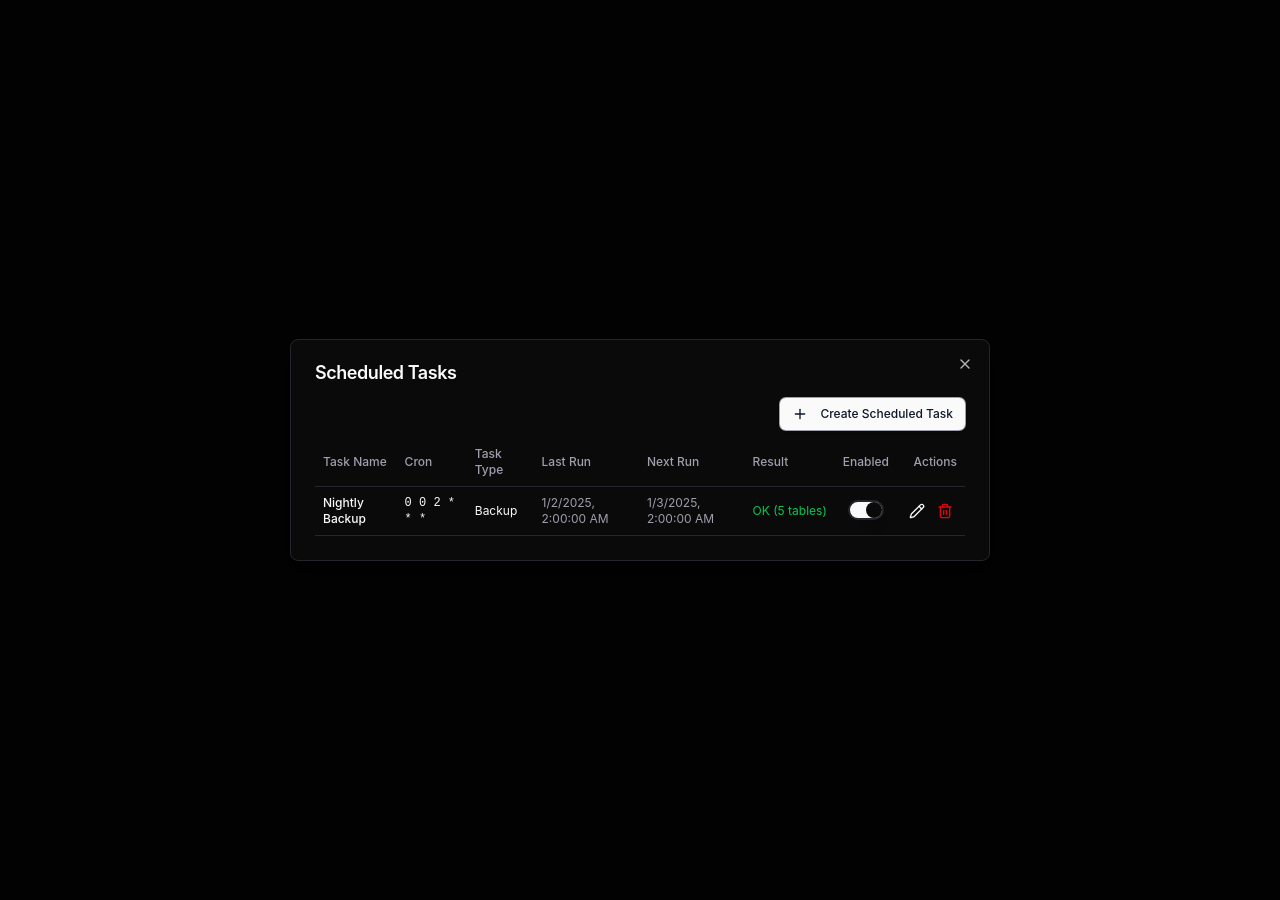
edit button opens form with pre-filled task data
Expected: the text "Nightly Backup" is shown, [315, 486, 397, 536]
Expected: the row that starts with "Nightly Backup" is shown, [315, 486, 965, 536]
Click the button with class "lucide-pencil": (917,511) [905, 499, 929, 523]
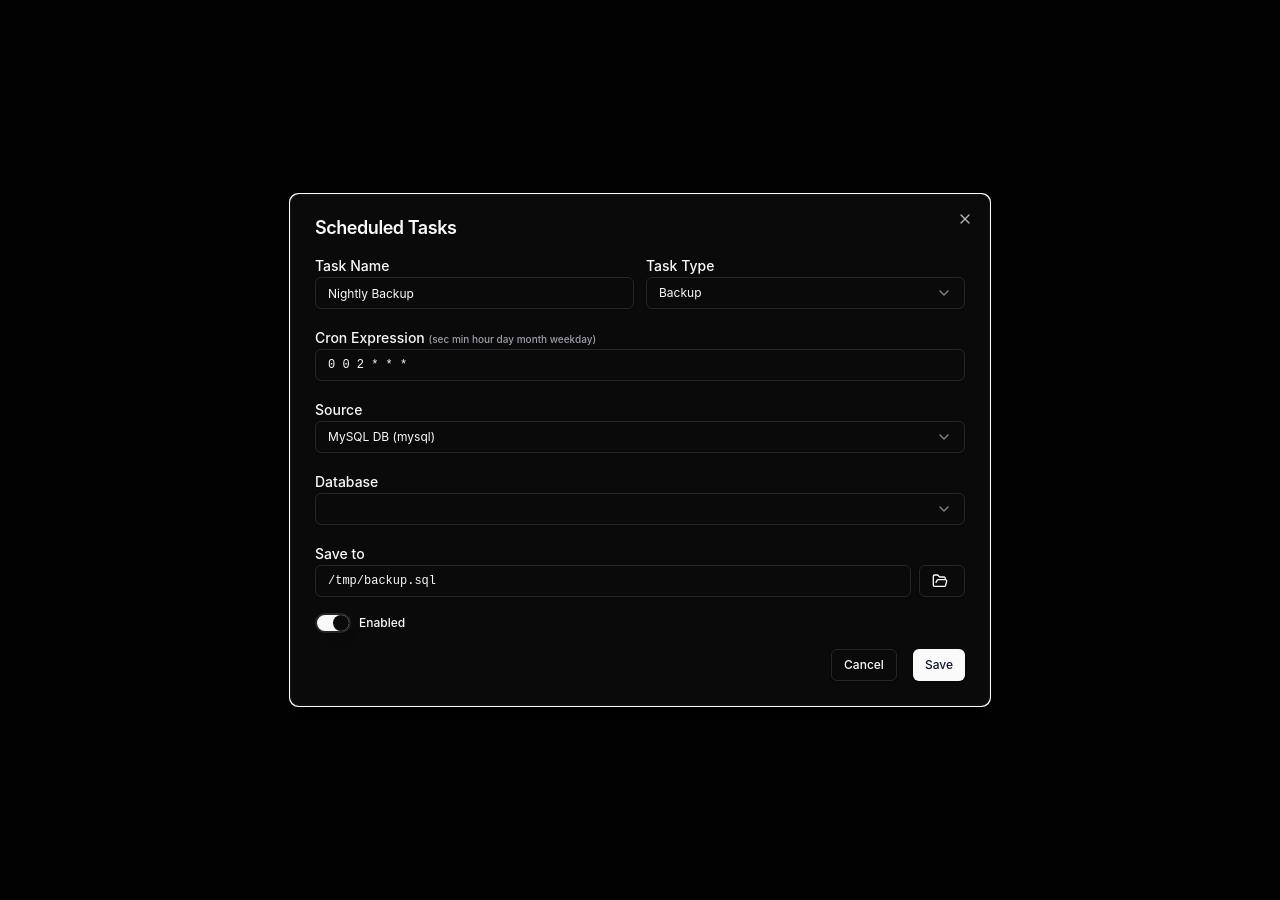
Now the field showing "Nightly Backup" below "Task Name" is shown, box [315, 277, 634, 309]
Now the field showing "0 0 2 * * *" below "Cron Expression" is shown, box [315, 349, 965, 381]
